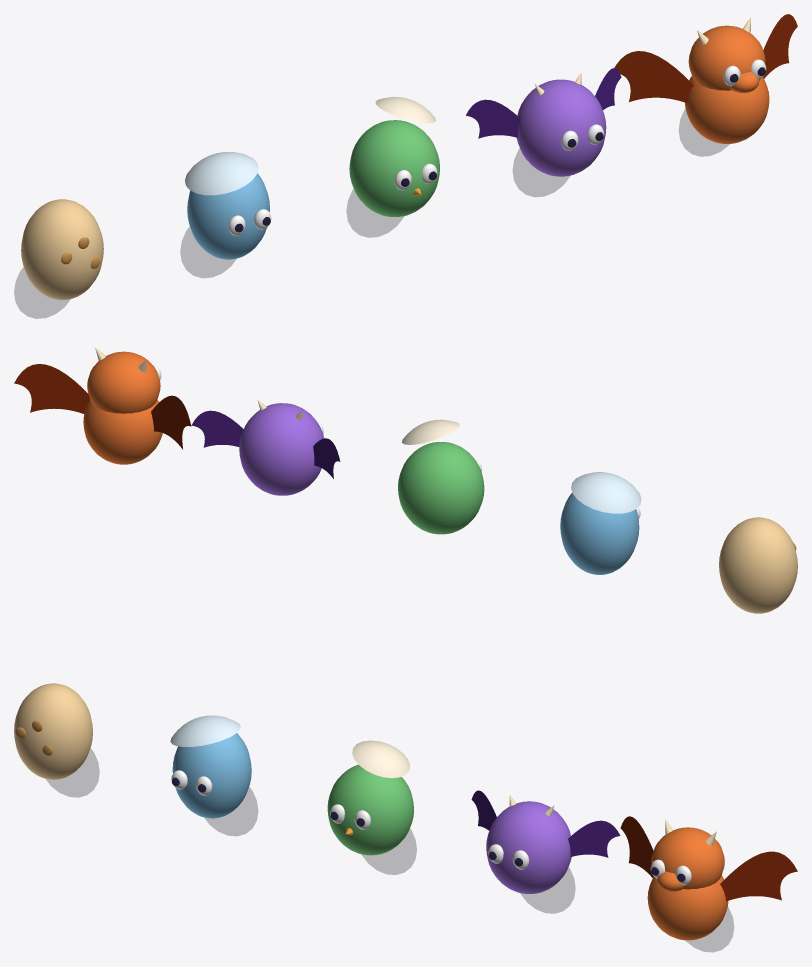
The model's file is creatures.opt.glb.
3 renders of one model, top to bottom at view 1: azimuth 30°, elevation 25°; view 2: azimuth 150°, elevation 25°; view 3: azimuth 330°, elevation 25°, orthographic. The views are drawn at different scales.
Parts seen in each view (by area): view 1: Level5_Dragon, Level4_Wyrmling, Level3_Hatchling, Level2_Cracked, Level1_Egg; view 2: Level5_Dragon, Level4_Wyrmling, Level3_Hatchling, Level2_Cracked, Level1_Egg; view 3: Level5_Dragon, Level4_Wyrmling, Level3_Hatchling, Level2_Cracked, Level1_Egg.
Part boxes in pixels (x1,y1,x2,y2): Level5_Dragon: (614,14,797,156); Level4_Wyrmling: (466,68,621,196); Level3_Hatchling: (346,97,439,237); Level2_Cracked: (180,152,271,277); Level1_Egg: (14,199,103,318); Level5_Dragon: (14,347,191,464); Level4_Wyrmling: (191,400,340,495); Level3_Hatchling: (398,419,484,534); Level2_Cracked: (560,472,641,574); Level1_Egg: (719,517,797,613); Level5_Dragon: (620,816,797,952); Level4_Wyrmling: (471,790,620,913); Level3_Hatchling: (327,740,416,874); Level2_Cracked: (170,715,257,835); Level1_Egg: (14,683,99,797).
Size of the model in its own units: 669 by 119 by 71.77.
